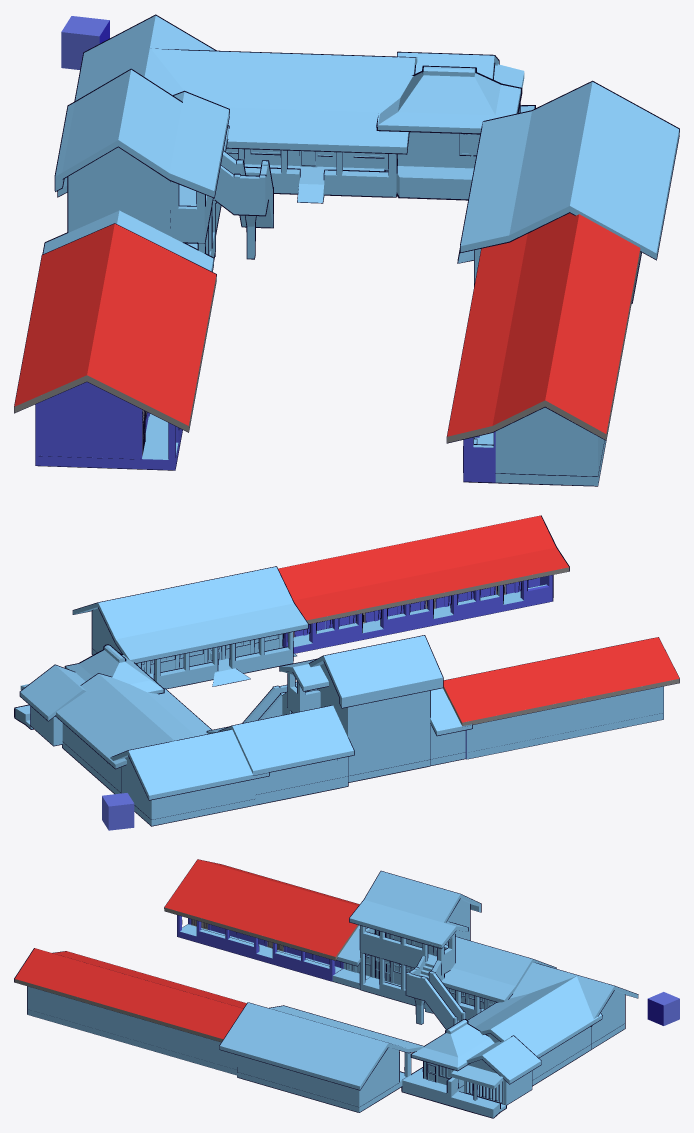
The model's file is Models1.glb.
The picture shows the model from 3 angles, top to bottom: view 1: azimuth 30°, elevation 25°; view 2: azimuth 150°, elevation 25°; view 3: azimuth 270°, elevation 25°; orthographic projection. The views are drawn at different scales.
Visible parts, largest first — view 1: GedungA, GedungA4, GedungA1, TU, RG, UKS, GedungA2, RKS, Warung, Box; view 2: GedungA, GedungA1, GedungA4, RG, GedungA2, TU, GedungA3, Warung, UKS, RKS, Box; view 3: GedungA, GedungA4, GedungA1, RG, TU, UKS, GedungA3, Warung, GedungA2, RKS, Box.
Part boxes in pixels (bbox=[...]): GedungA: bbox=[446, 213, 640, 486]; GedungA4: bbox=[14, 223, 216, 470]; GedungA1: bbox=[457, 80, 679, 303]; TU: bbox=[151, 48, 417, 203]; RG: bbox=[54, 68, 273, 259]; UKS: bbox=[376, 65, 535, 200]; GedungA2: bbox=[74, 14, 216, 101]; RKS: bbox=[42, 210, 214, 271]; Warung: bbox=[397, 51, 524, 87]; Box: bbox=[61, 16, 109, 69]; GedungA: bbox=[278, 515, 569, 653]; GedungA1: bbox=[72, 566, 308, 689]; GedungA4: bbox=[443, 637, 679, 759]; RG: bbox=[242, 635, 443, 782]; GedungA2: bbox=[107, 729, 269, 826]; TU: bbox=[55, 673, 211, 794]; GedungA3: bbox=[206, 705, 354, 805]; Warung: bbox=[19, 664, 85, 746]; UKS: bbox=[14, 644, 164, 729]; RKS: bbox=[430, 688, 472, 766]; Box: bbox=[102, 793, 134, 830]; GedungA: bbox=[14, 948, 246, 1075]; GedungA4: bbox=[164, 859, 359, 981]; GedungA1: bbox=[219, 1002, 424, 1112]; RG: bbox=[349, 870, 481, 1029]; TU: bbox=[467, 976, 602, 1086]; UKS: bbox=[401, 1019, 506, 1118]; GedungA3: bbox=[425, 936, 556, 1019]; Warung: bbox=[451, 1035, 541, 1105]; GedungA2: bbox=[510, 962, 638, 1049]; RKS: bbox=[332, 925, 370, 989]; Box: bbox=[647, 992, 679, 1025].
Size of the model in its own units: 33.02 by 7.63 by 41.98.
